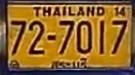0: (76, 20, 91, 53)
1: (98, 20, 103, 54), (99, 20, 104, 54)
2: (28, 20, 43, 54)
7: (58, 20, 74, 54), (111, 19, 126, 53), (10, 20, 25, 54)
SRI: (50, 56, 90, 72)
